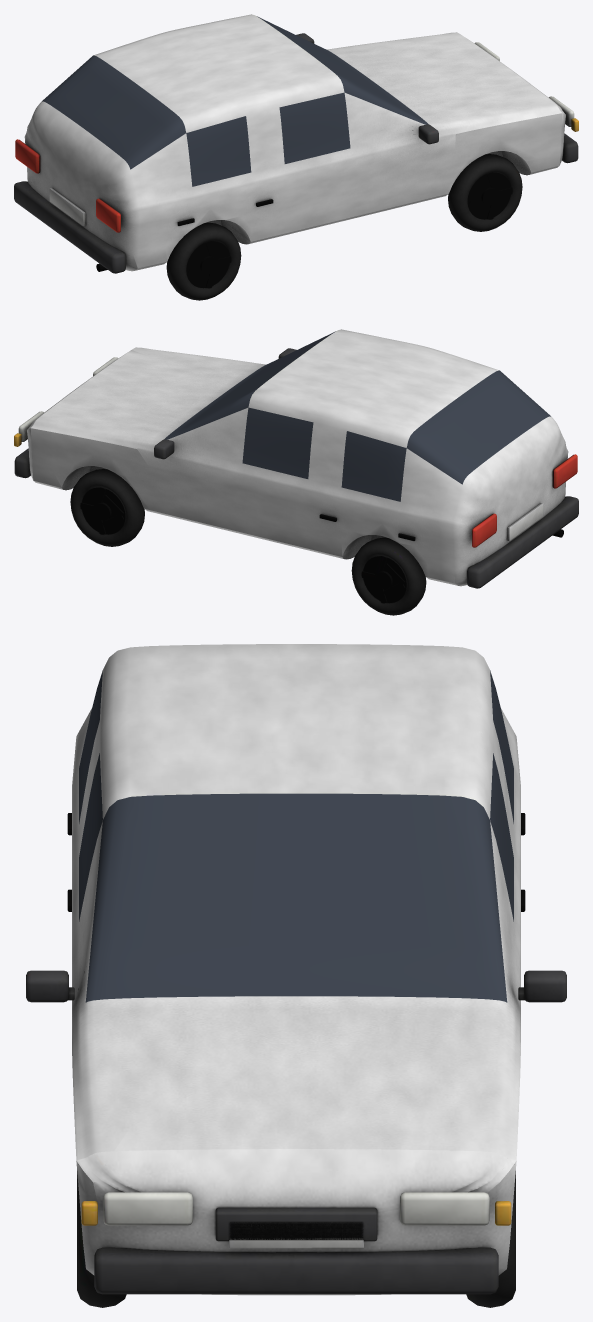
The model's file is hatch_tex.glb.
3 views of the same model, one above another, from view 1: azimuth 30°, elevation 25°; view 2: azimuth 150°, elevation 25°; view 3: azimuth 270°, elevation 25° (orthographic). The views are drawn at different scales.
Parts seen in each view (by area): view 1: car; view 2: car; view 3: car.
Part boxes in pixels (bbox=[...]): car: bbox=[14, 14, 578, 300]; car: bbox=[14, 329, 578, 615]; car: bbox=[26, 644, 566, 1307].
Bounding box in the file's own units: 3.98 × 1.53 × 2.
Materials: 4 (3 with a texture image).
